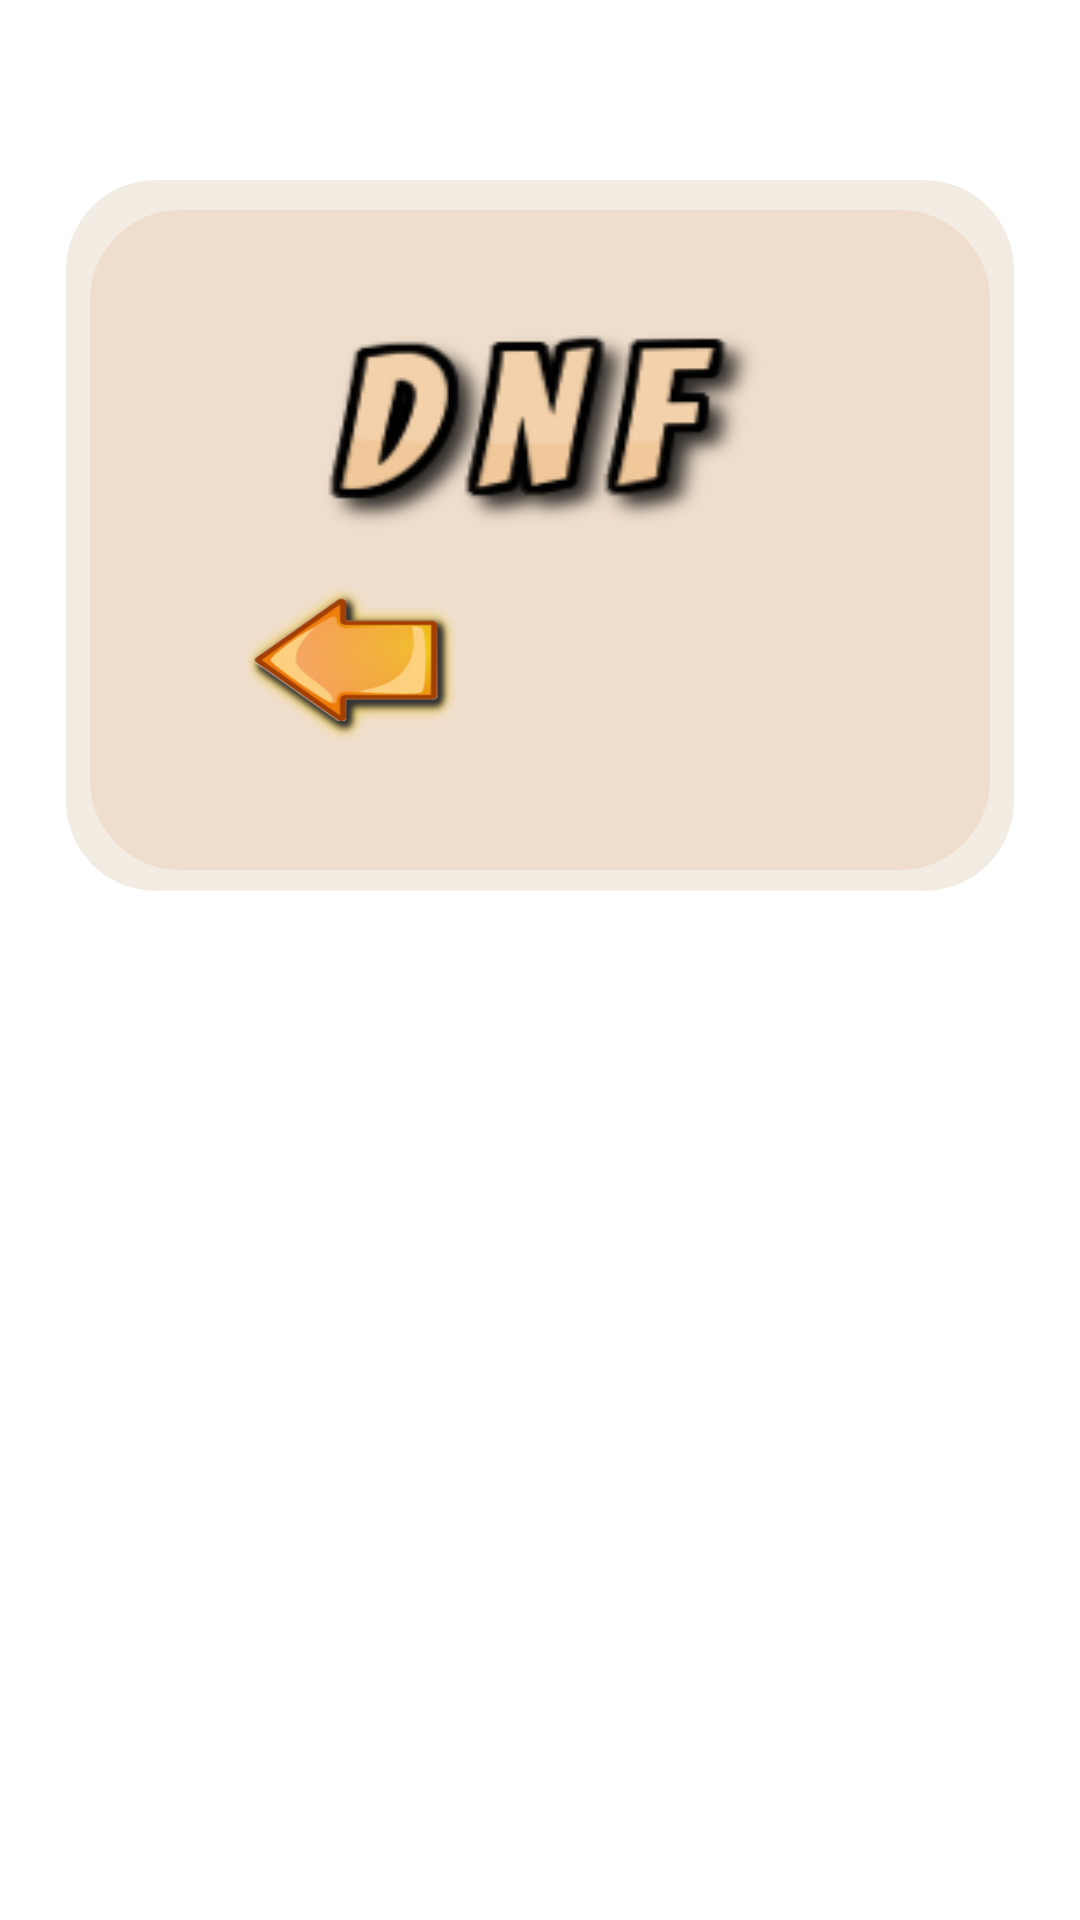

Icons on this 1080px×1920px Android screen, each with its box as (left=x1, top=y1, right=x2, bottom=y2):
arrow: (left=250, top=592, right=452, bottom=736)
